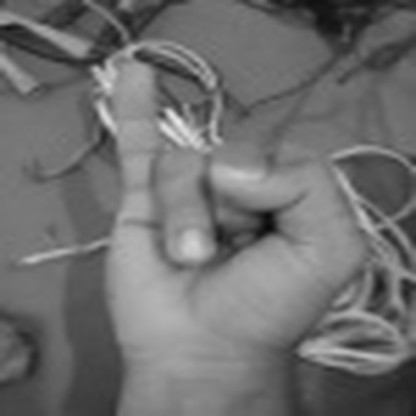i: (103, 55, 374, 361)
